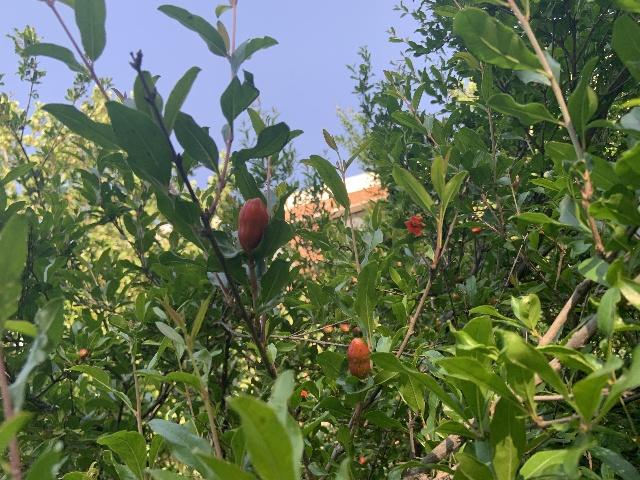bud: (237, 197, 268, 252), (346, 336, 371, 378), (323, 324, 333, 333), (78, 348, 87, 357), (340, 324, 350, 332)
flower: (404, 214, 425, 236)
